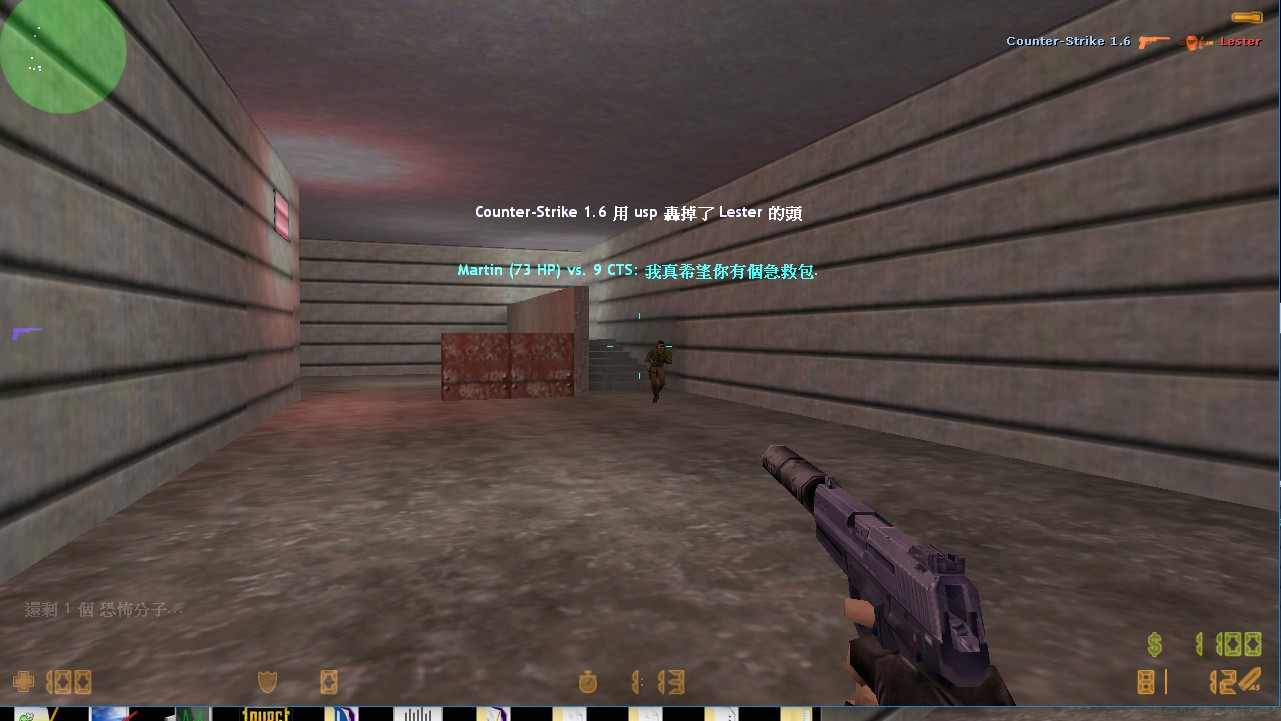person: (640, 337, 675, 406)
